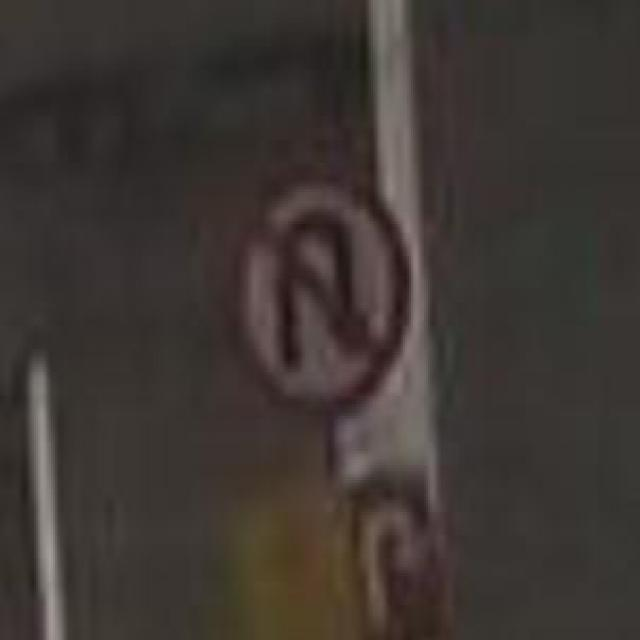traffic sign: (233, 174, 413, 418)
